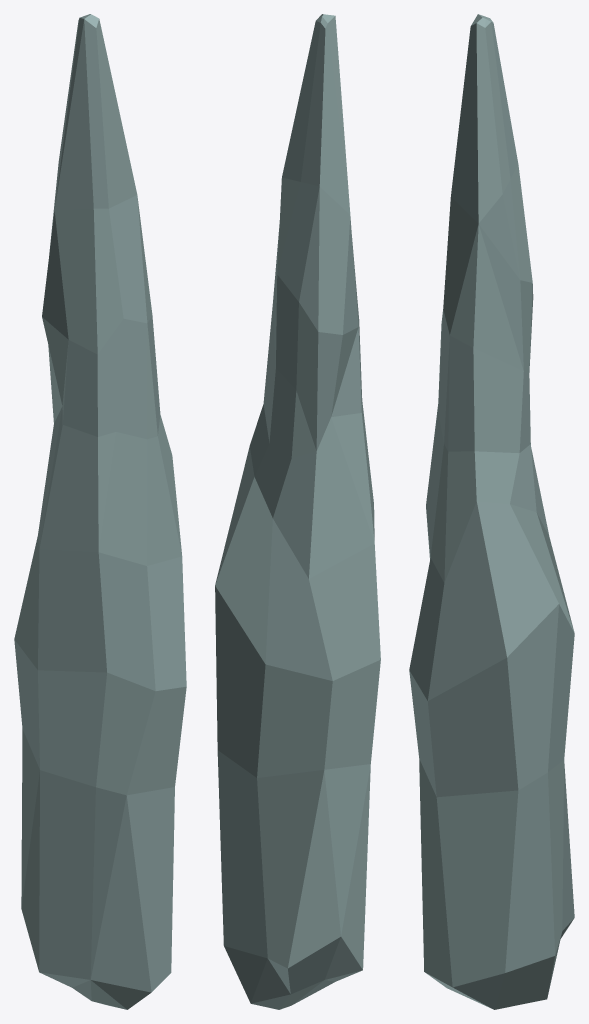
File: salactites_sharp_2.fbx
3 renders of one model, left to right at view 1: azimuth 30°, elevation 25°; view 2: azimuth 150°, elevation 25°; view 3: azimuth 270°, elevation 25°, orthographic. The views are drawn at different scales.
Parts seen in each view (by area): view 1: salactites_sharp_2; view 2: salactites_sharp_2; view 3: salactites_sharp_2.
Boxes of the visible parts, left/top/right/bottom form: salactites_sharp_2: left=14, top=14, right=186, bottom=1009; salactites_sharp_2: left=215, top=14, right=380, bottom=1009; salactites_sharp_2: left=409, top=14, right=574, bottom=1009.
Size of the model in its own units: 1810 by 11393 by 1747.
